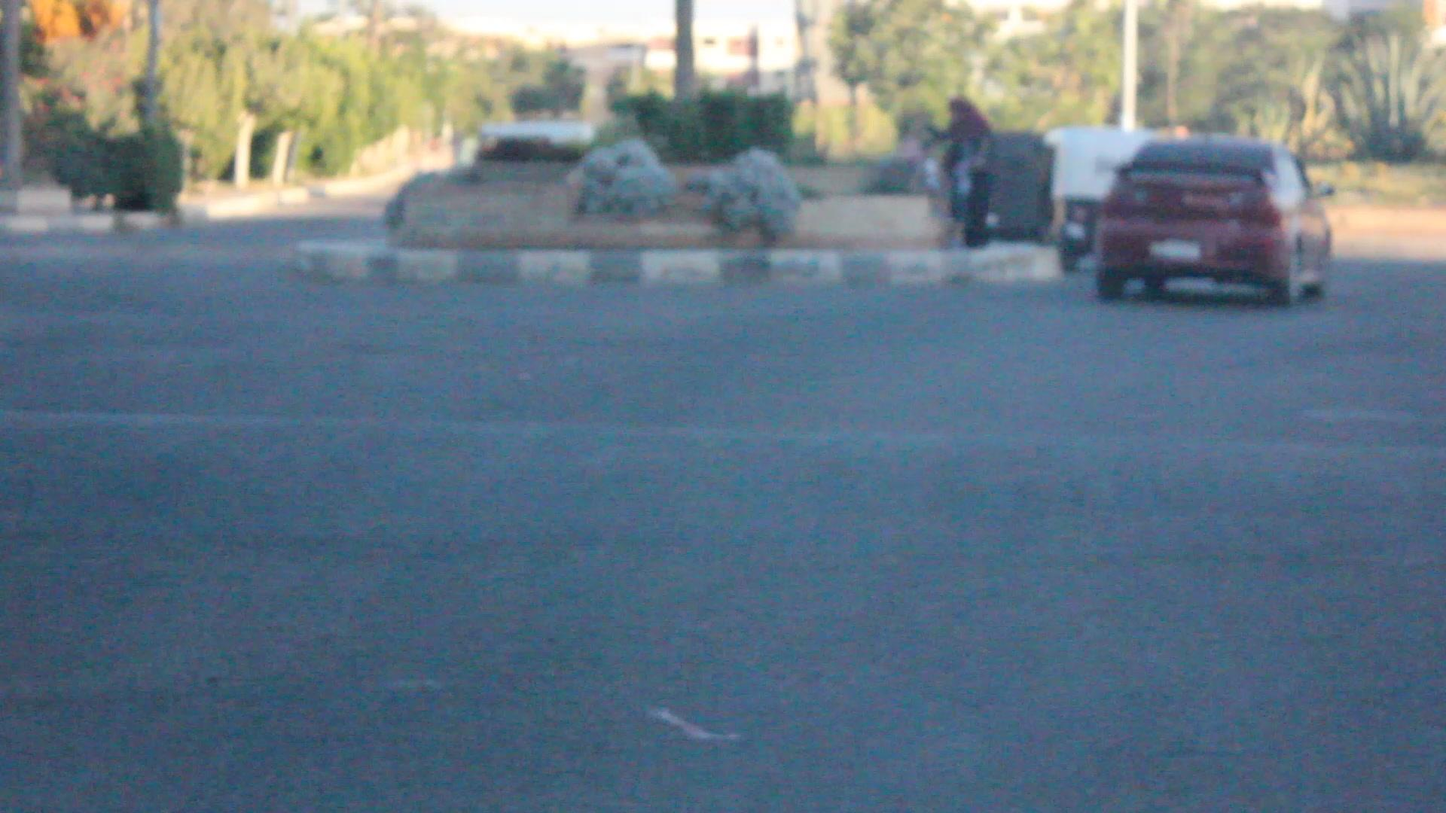Bump: (0, 399, 1446, 548)
